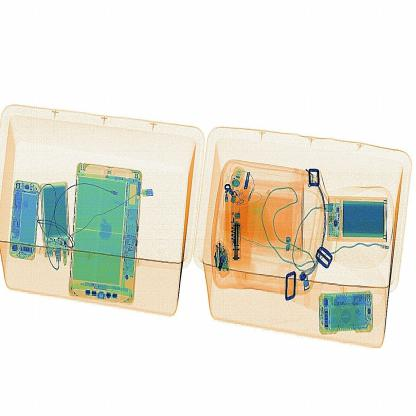scissors: (226, 216, 250, 268)
